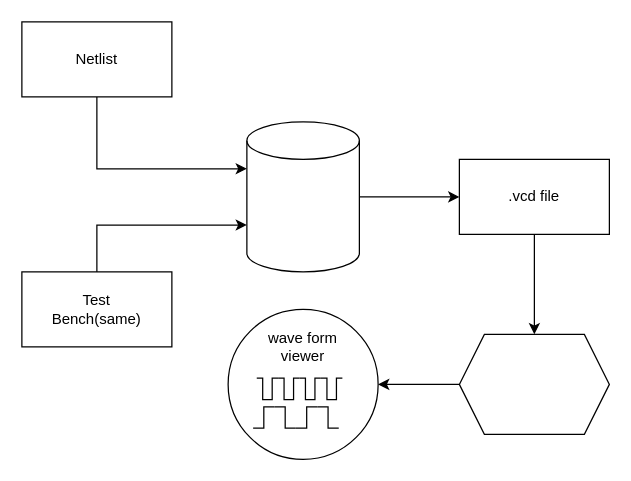
This 631x481 diagram has some shape labels left out. Each missing label, with the centre of its shape:
gtkwave: point 533,383
Iverilog: point 302,196
